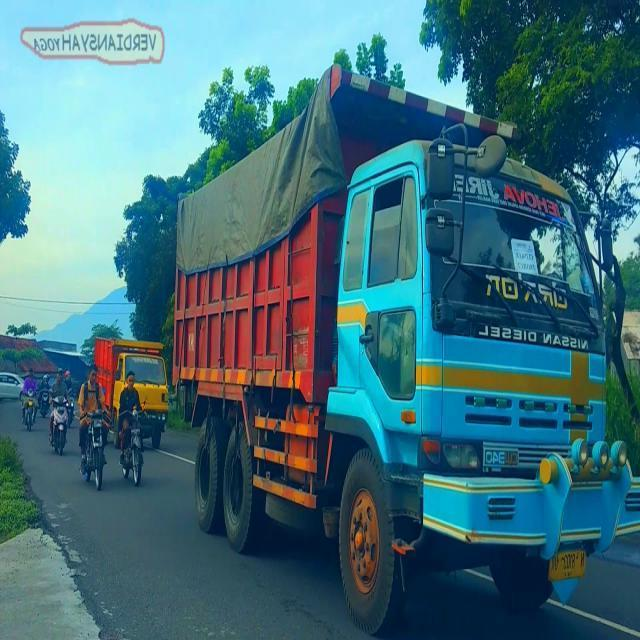truck: (176, 65, 640, 639), (83, 317, 173, 459)
